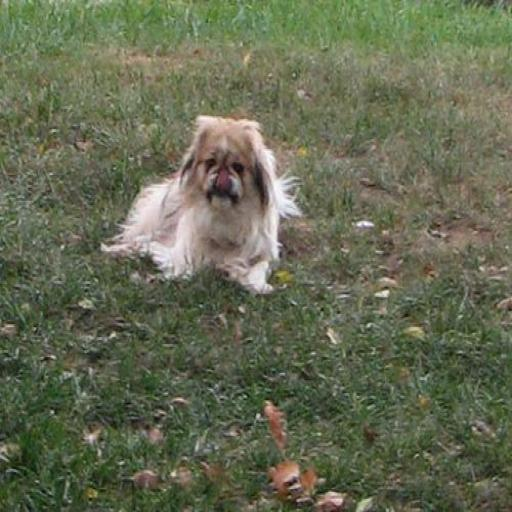dog_face: (174, 113, 277, 215)
